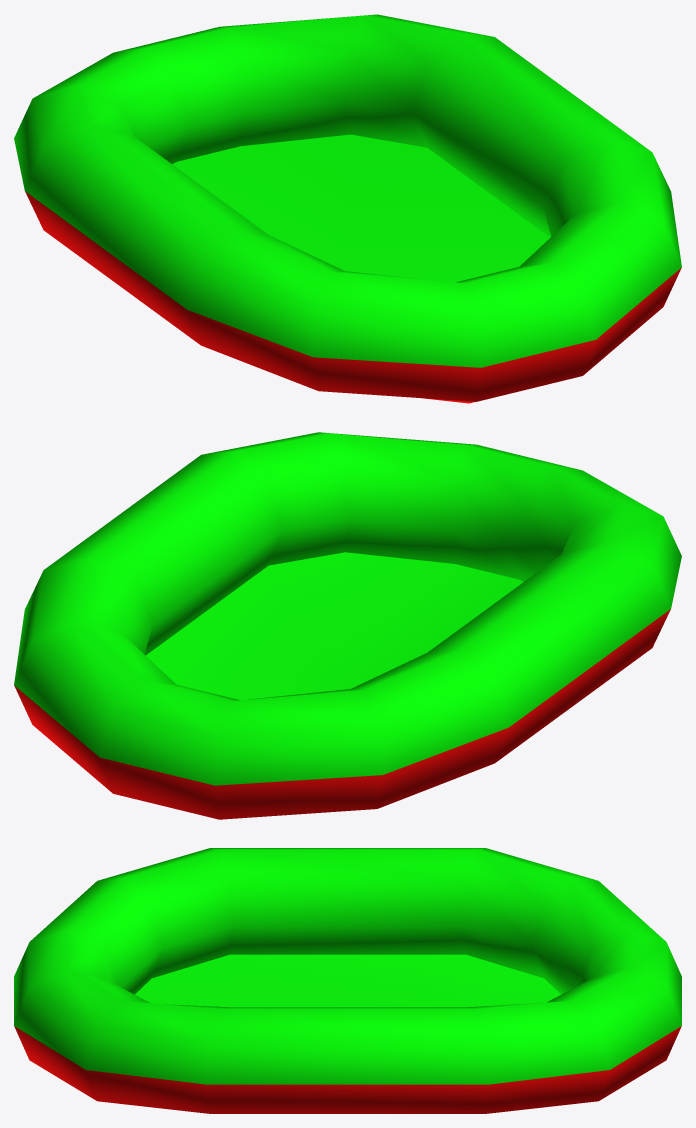
3 views of the same model, one above another, from view 1: azimuth 30°, elevation 25°; view 2: azimuth 150°, elevation 25°; view 3: azimuth 270°, elevation 25° (orthographic). The views are drawn at different scales.
Visible parts, largest first — view 1: torus, liner-top; view 2: torus, liner-top; view 3: torus, liner-top.
Part boxes in pixels (bbox=[...]): torus: bbox=[14, 14, 681, 401]; liner-top: bbox=[172, 134, 549, 282]; torus: bbox=[14, 432, 681, 819]; liner-top: bbox=[146, 552, 523, 700]; torus: bbox=[14, 848, 681, 1113]; liner-top: bbox=[135, 954, 560, 1007].
Size of the model in its own units: 1.38 by 0.3816 by 1.88.
Materials: 1 (1 with a texture image).
